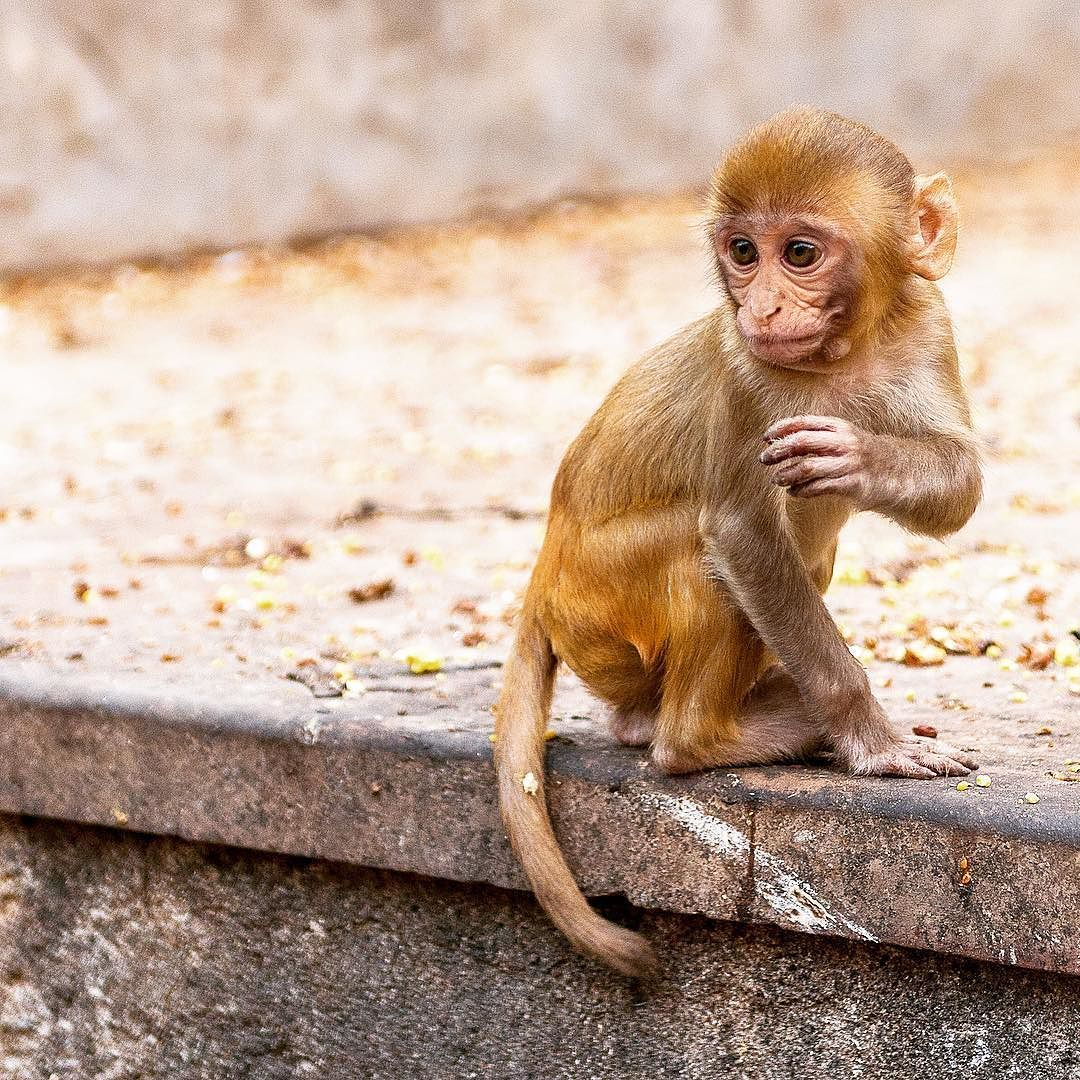monkey: (478, 104, 1025, 984)
